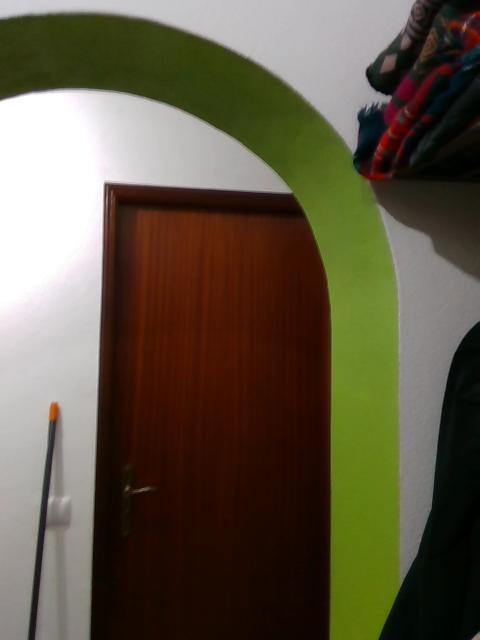door: (110, 207, 317, 640)
